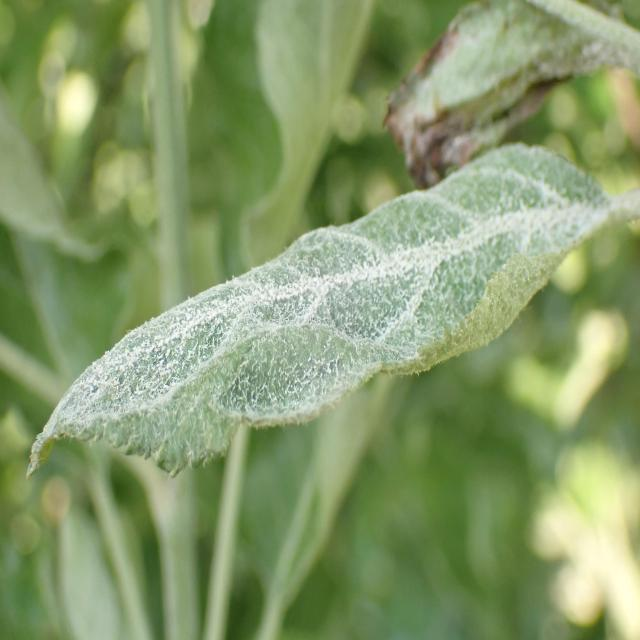Powdery_mildew: (18, 145, 624, 495), (385, 0, 640, 198)
